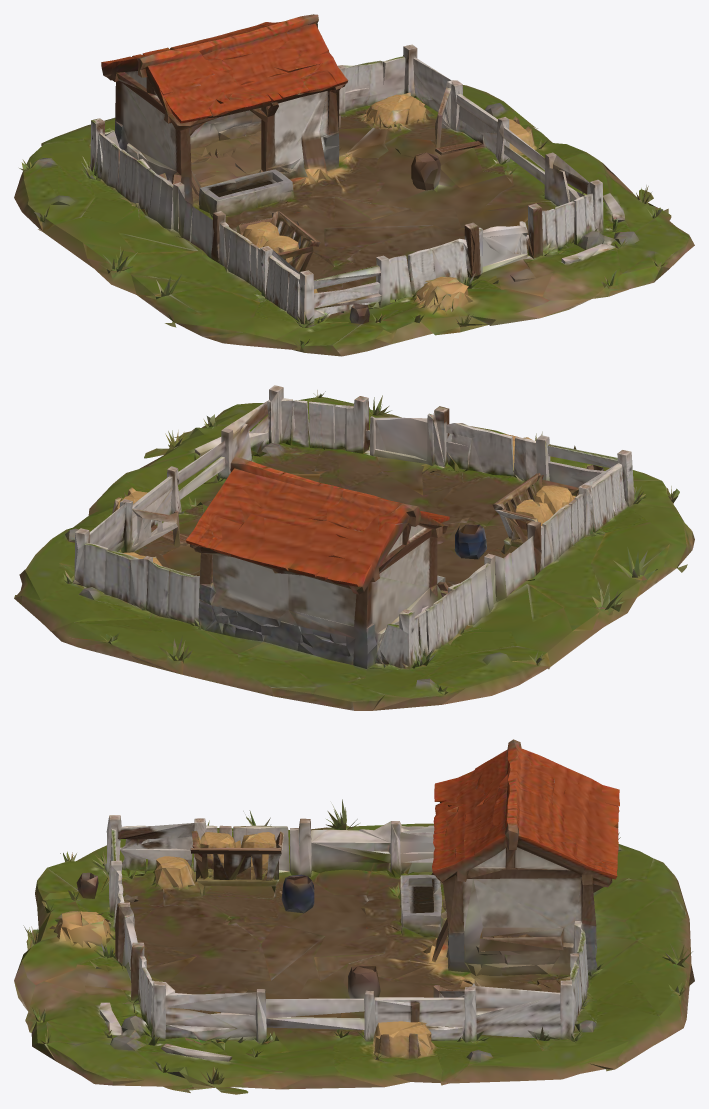
Rendered from pasture.glb.
The picture shows the model from 3 angles, top to bottom: view 1: azimuth 30°, elevation 25°; view 2: azimuth 150°, elevation 25°; view 3: azimuth 270°, elevation 25°; orthographic projection. The views are drawn at different scales.
Size of the model in its own units: 1.78 by 0.4692 by 1.89.
1 material, 1 textured.
